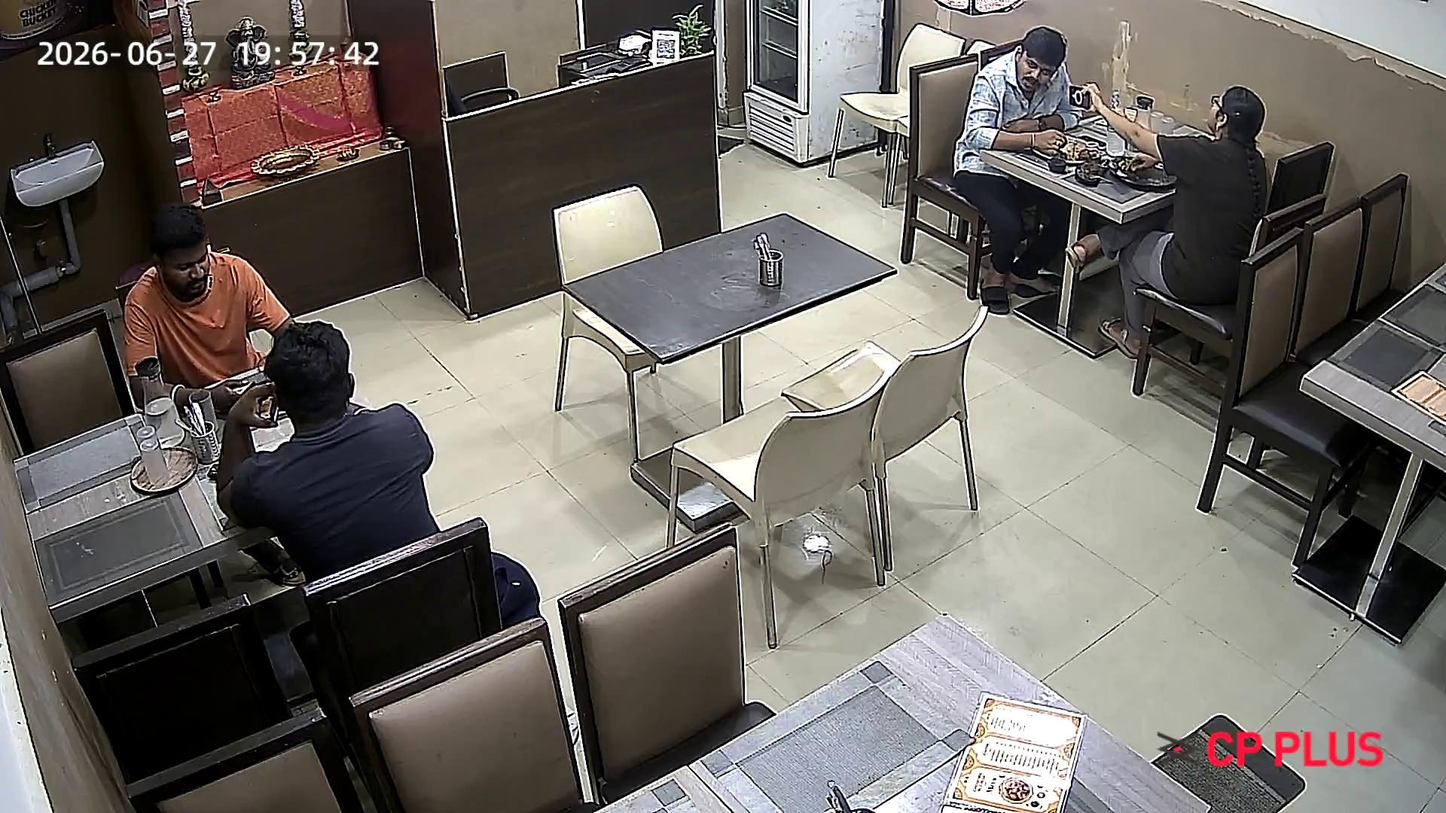clean: (590, 607, 1211, 813), (552, 208, 903, 366)
occupied: (9, 199, 405, 628), (918, 24, 1279, 233)
